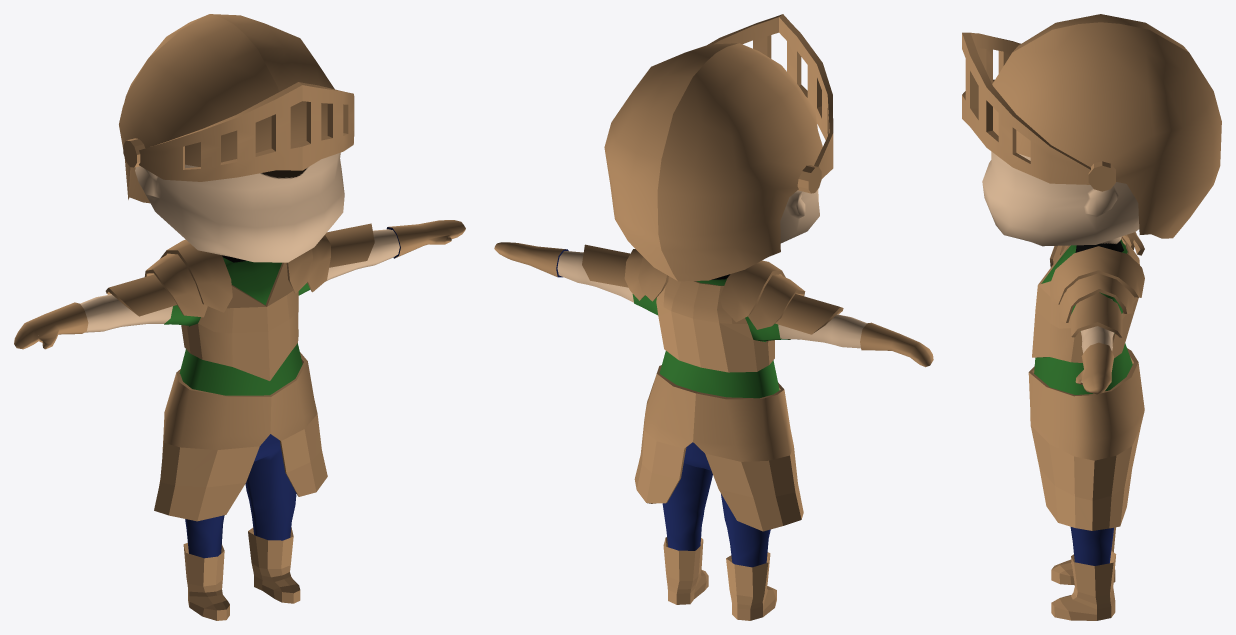
The model's file is NormalMapTest01.obj.
3 renders of one model, left to right at view 1: azimuth 30°, elevation 25°; view 2: azimuth 150°, elevation 25°; view 3: azimuth 270°, elevation 25°, orthographic. The views are drawn at different scales.
Visible parts, largest first — view 1: FlynnKnight; view 2: FlynnKnight; view 3: FlynnKnight.
Part boxes in pixels (x1,y1,x2,y2): FlynnKnight: (14, 14, 465, 620); FlynnKnight: (494, 14, 933, 620); FlynnKnight: (962, 14, 1221, 620).
Bounding box in the file's own units: 154 × 188 × 77.04.
